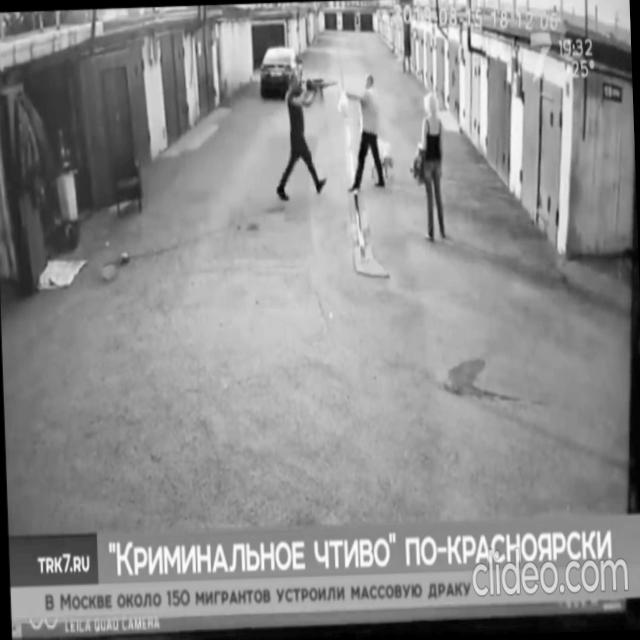gun: (300, 80, 338, 100)
person: (412, 90, 449, 246), (342, 73, 387, 194)
person with a gun: (271, 70, 342, 200)
